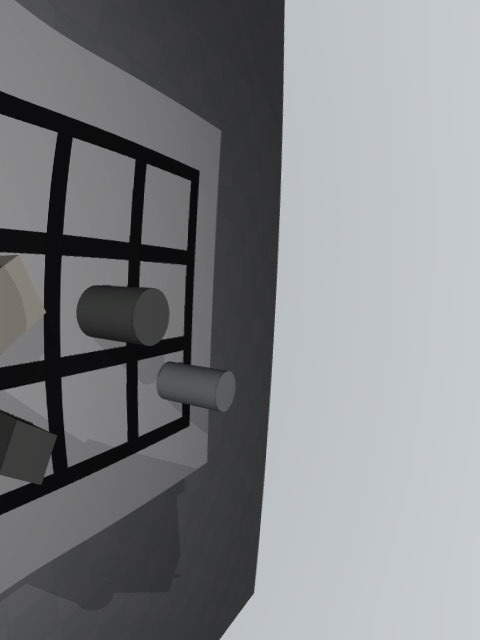can: (156, 361, 236, 412)
cube: (0, 411, 57, 485)
cylinder: (76, 285, 170, 346)
foam: (0, 255, 46, 355)
